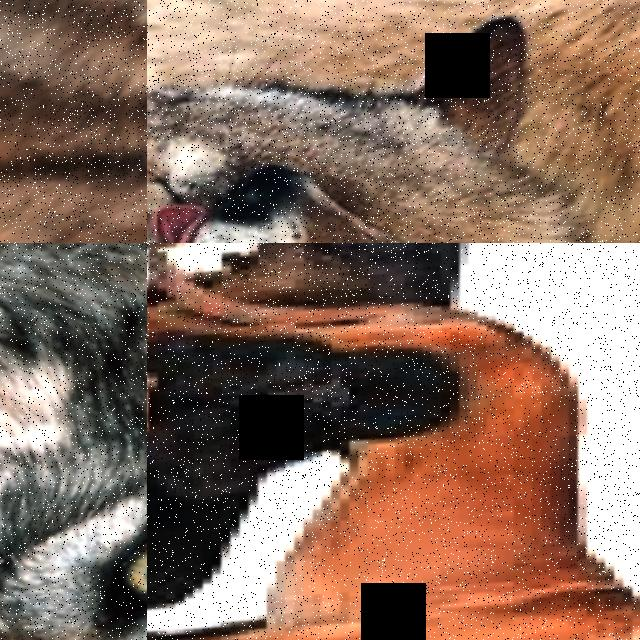dog: (147, 243, 640, 640), (153, 243, 640, 339), (147, 267, 194, 473)
wolf: (147, 0, 640, 243), (0, 243, 147, 640), (147, 129, 640, 243), (0, 0, 147, 243)
